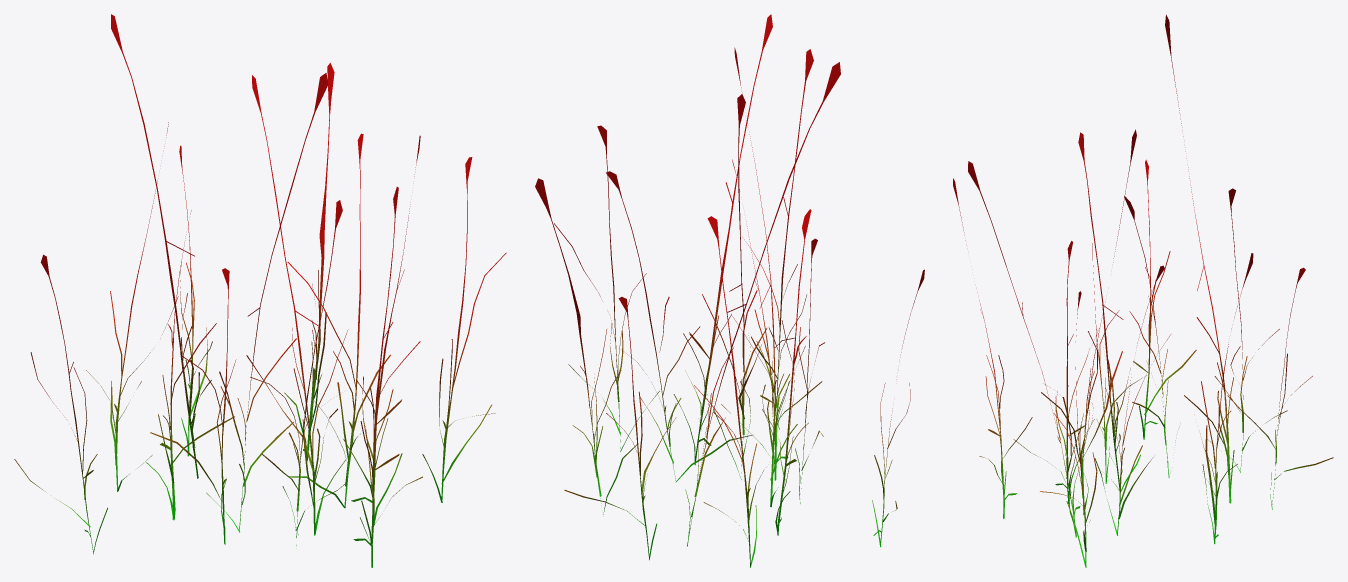
The model's file is Tundra Grass_LOD3_Var33_wk2oaeyqx.fbx.
The picture shows the model from 3 angles, left to right: view 1: azimuth 30°, elevation 25°; view 2: azimuth 150°, elevation 25°; view 3: azimuth 270°, elevation 25°; orthographic projection. The views are drawn at different scales.
Parts seen in each view (by area): view 1: _z5yb_Var33_LOD3; view 2: _z5yb_Var33_LOD3; view 3: _z5yb_Var33_LOD3.
Boxes of the visible parts, bbox=[...] form: _z5yb_Var33_LOD3: bbox=[14, 14, 506, 567]; _z5yb_Var33_LOD3: bbox=[535, 14, 924, 567]; _z5yb_Var33_LOD3: bbox=[953, 14, 1333, 567].
Bounding box in the file's own units: 62.79 × 72.74 × 57.31.
